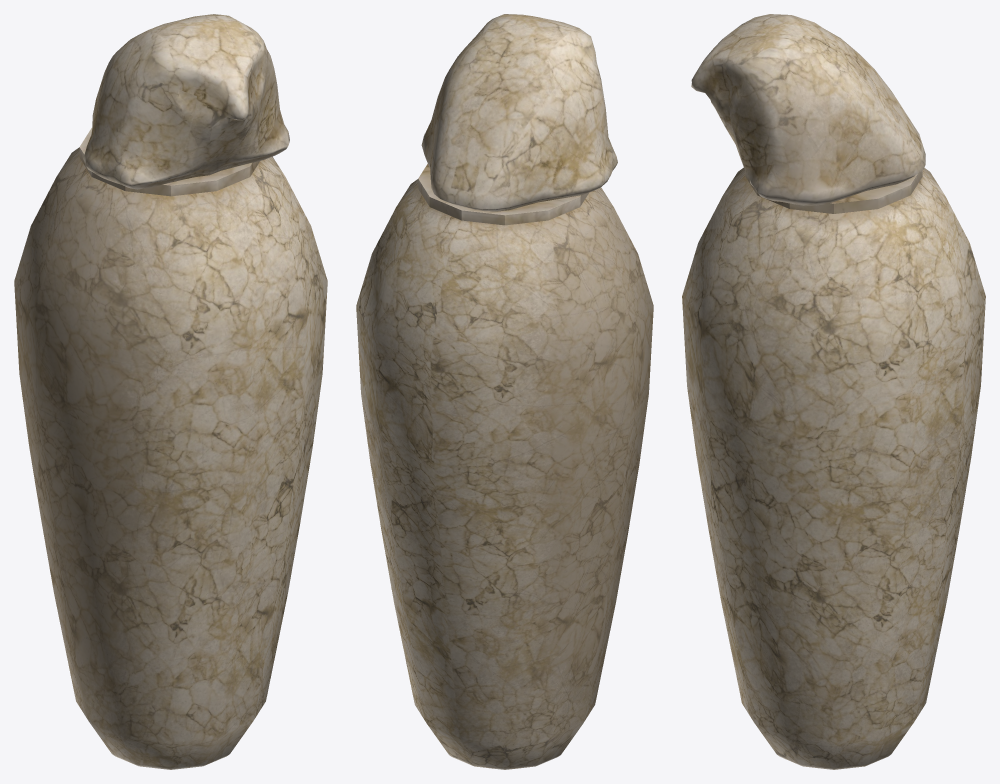
The model's file is vase4.fbx.
The picture shows the model from 3 angles, left to right: view 1: azimuth 30°, elevation 25°; view 2: azimuth 150°, elevation 25°; view 3: azimuth 270°, elevation 25°; orthographic projection. The views are drawn at different scales.
Visible parts, largest first — view 1: polySurface20, polySurface19; view 2: polySurface20, polySurface19; view 3: polySurface20, polySurface19.
Boxes of the visible parts, x1,y1,x2,y2 form: polySurface20: (14,128,327,769); polySurface19: (83,14,289,189); polySurface20: (356,164,653,769); polySurface19: (421,14,617,211); polySurface20: (682,167,985,769); polySurface19: (691,14,925,205).
Bounding box in the file's own units: 1230 × 3208 × 1230.
